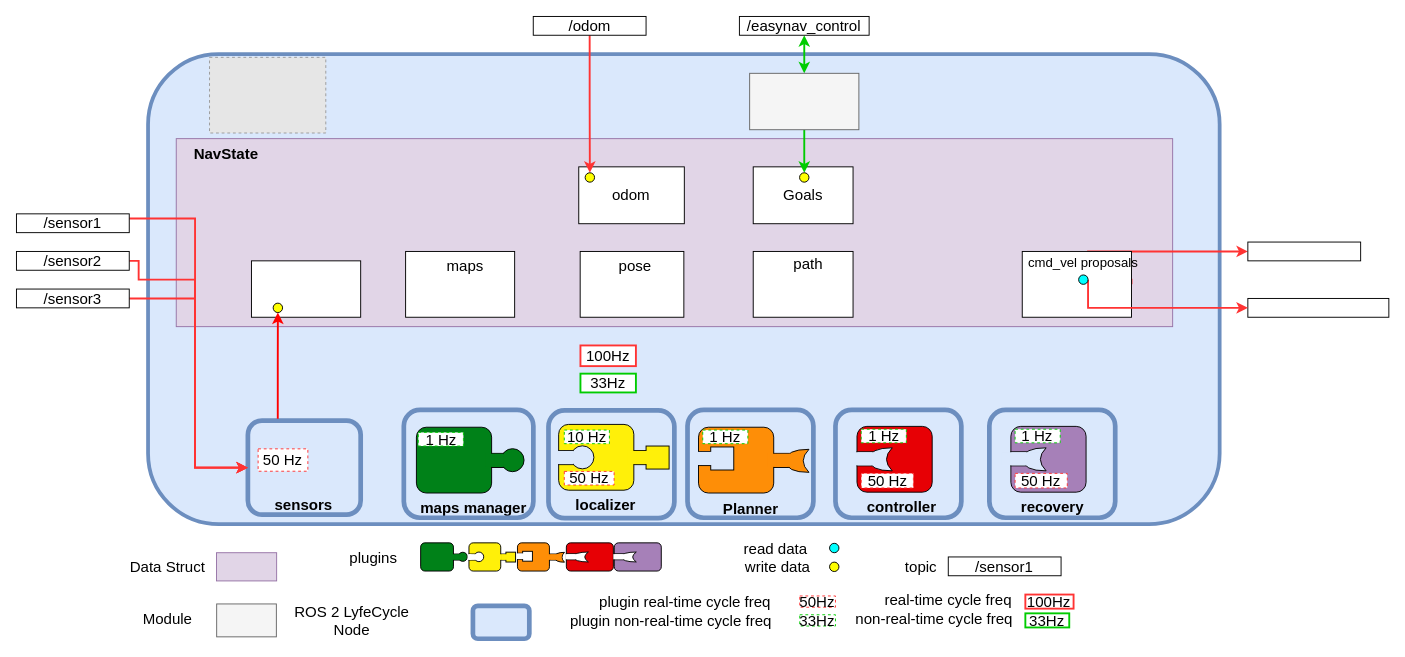
Image size: 1405x657. Some labels were removed from this diagram. Grey dashed boxes stand in for pictures. The centre of each missing label's shape, as x and y in pixels:
"/cmd_vel" belongs at (1304,251).
"/cmd_vel_stamped" belongs at (1318,307).
"GoalManager" belongs at (804,101).
"perceptions" belongs at (306,288).
